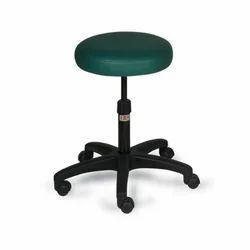stool: (53, 30, 200, 213)
